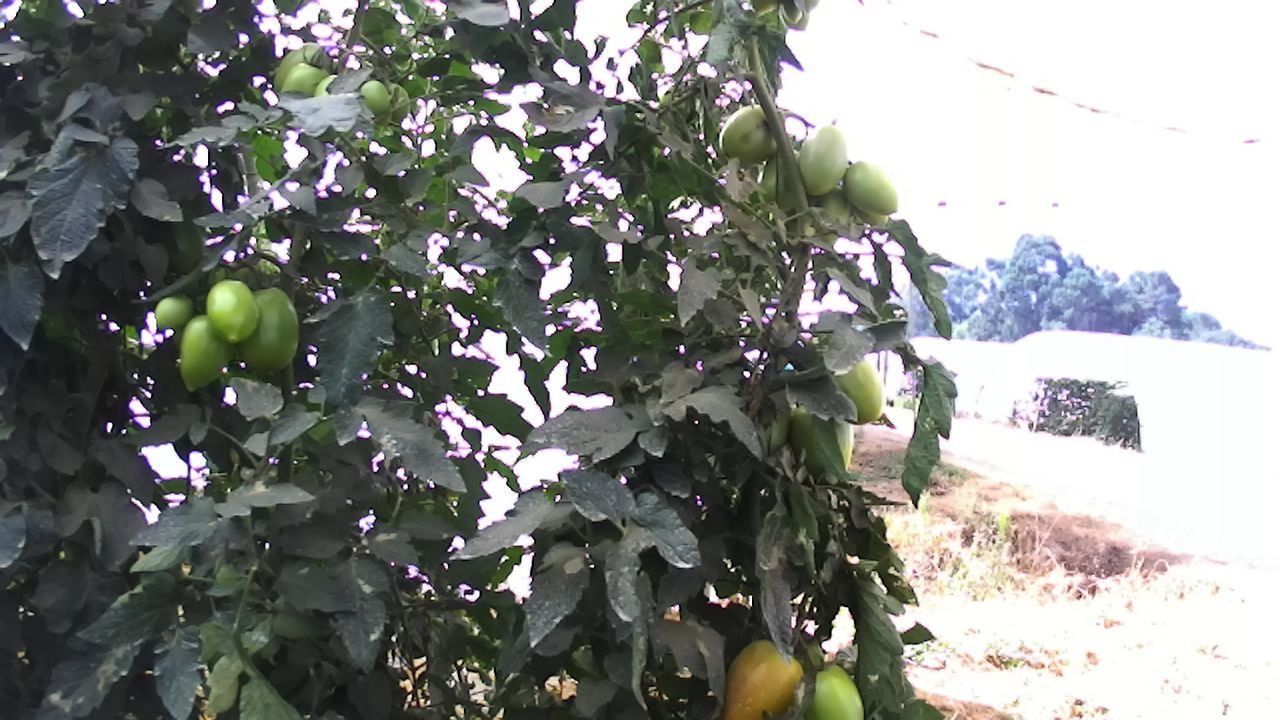tomato: (715, 632, 814, 720), (235, 282, 304, 379), (174, 307, 239, 395), (795, 113, 854, 200), (830, 350, 888, 429), (840, 157, 908, 223), (795, 660, 869, 720), (717, 102, 784, 167), (203, 275, 262, 344), (151, 287, 196, 333), (358, 77, 395, 117)
